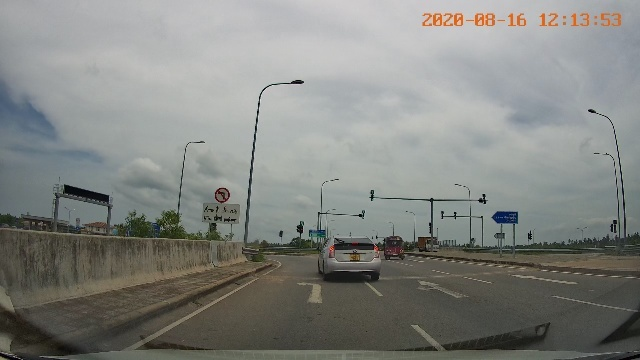LA: (296, 280, 323, 303)
SA: (507, 274, 580, 285)
SLA: (416, 279, 470, 298)
